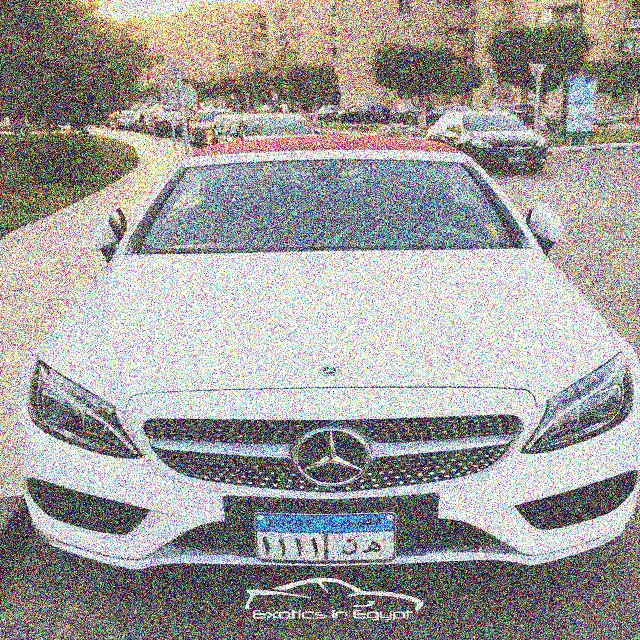License Plate: (251, 509, 402, 568), (507, 152, 528, 163)
